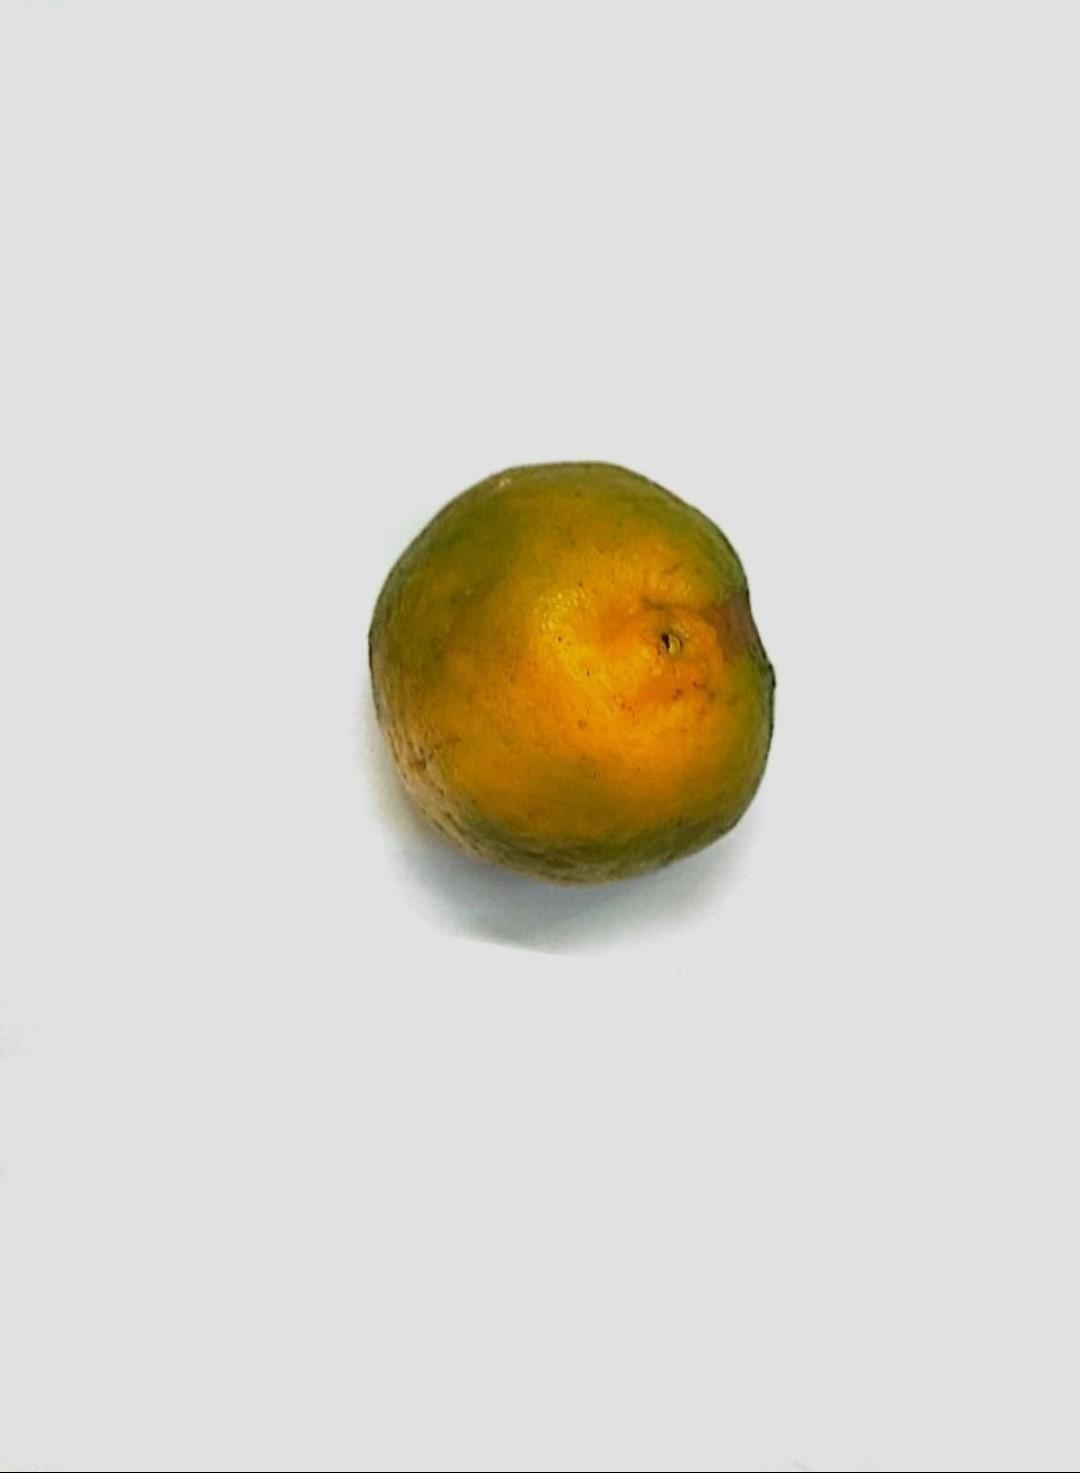Ripe: (364, 456, 770, 863)
